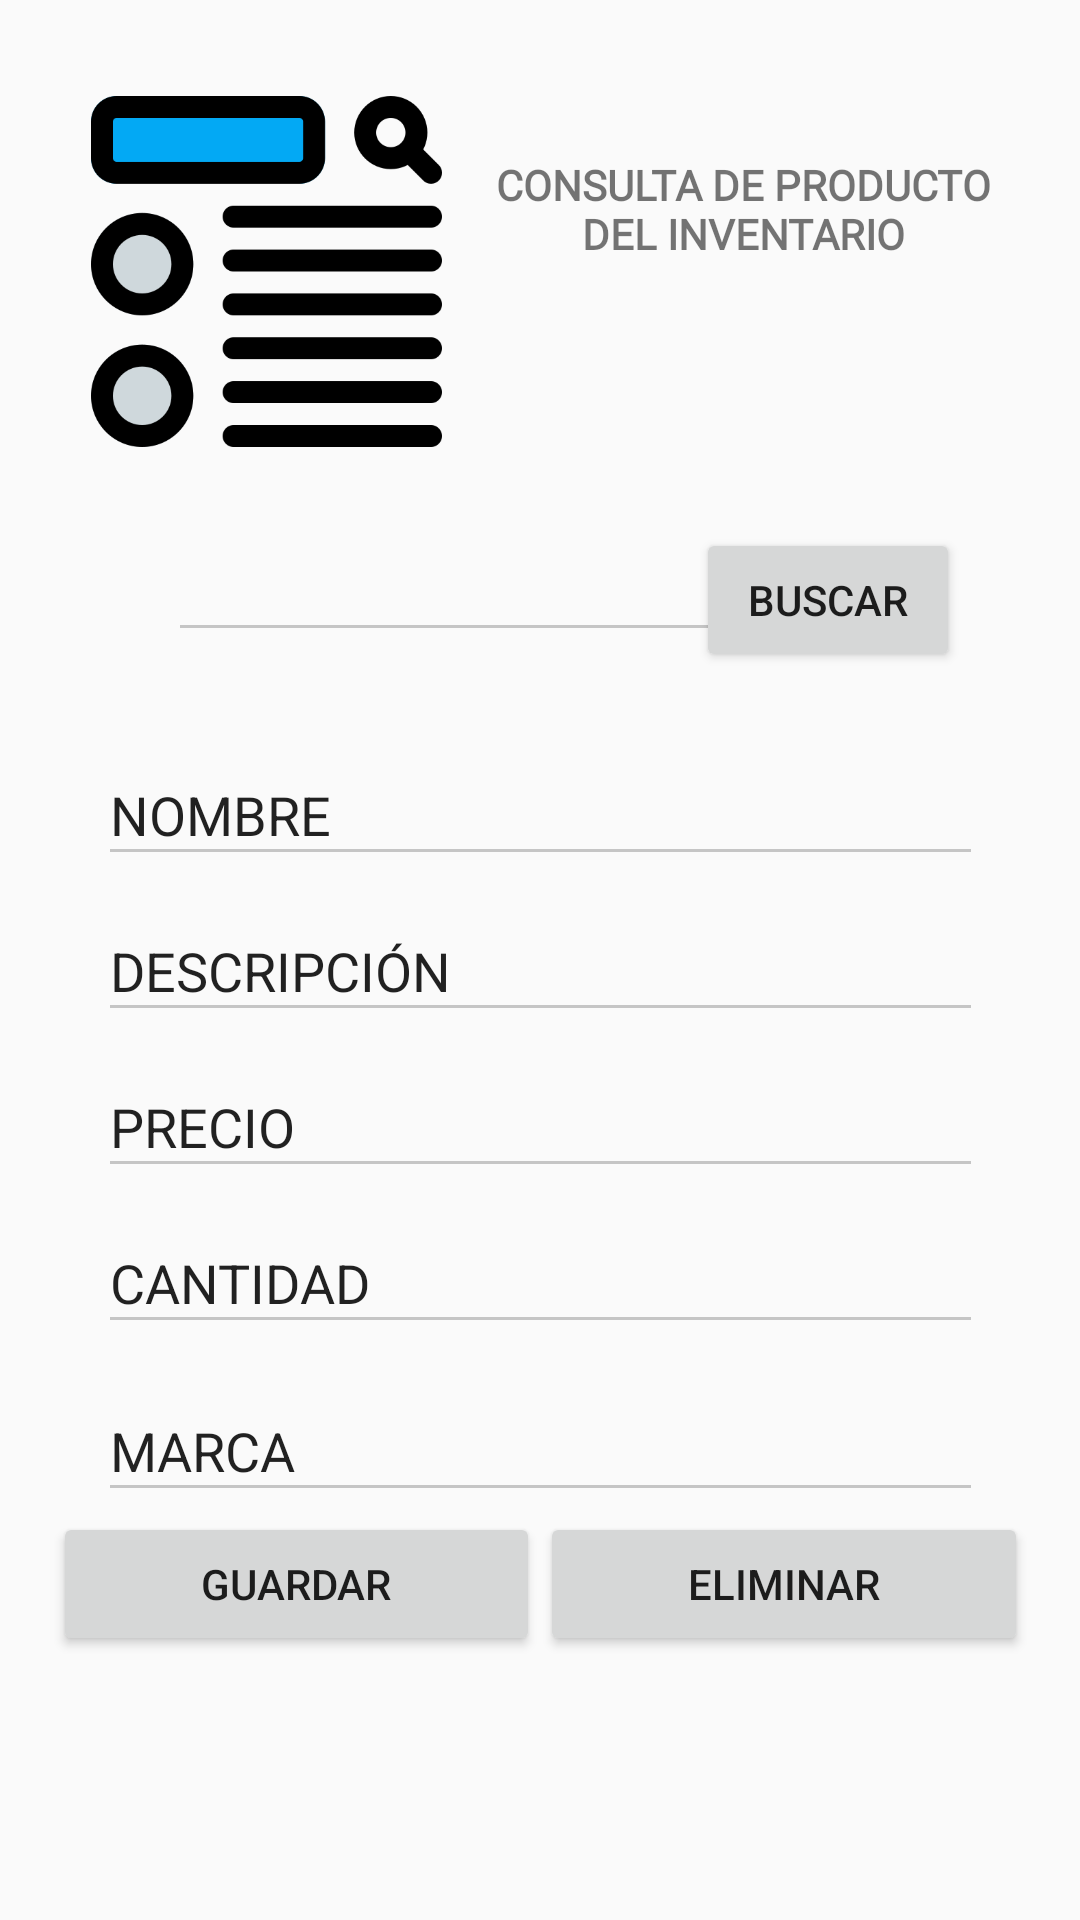

Icon bounding boxes for this 1080 x 1920 phone screenshot, format (x1=x1, y1=y1, x2=x2, y2=y2):
hallazgo: (x1=91, y1=96, x2=442, y2=447)
